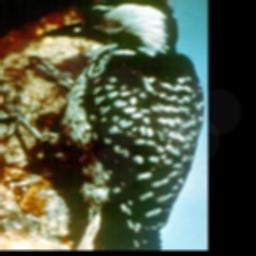Woodpecker: (0, 0, 204, 249)
